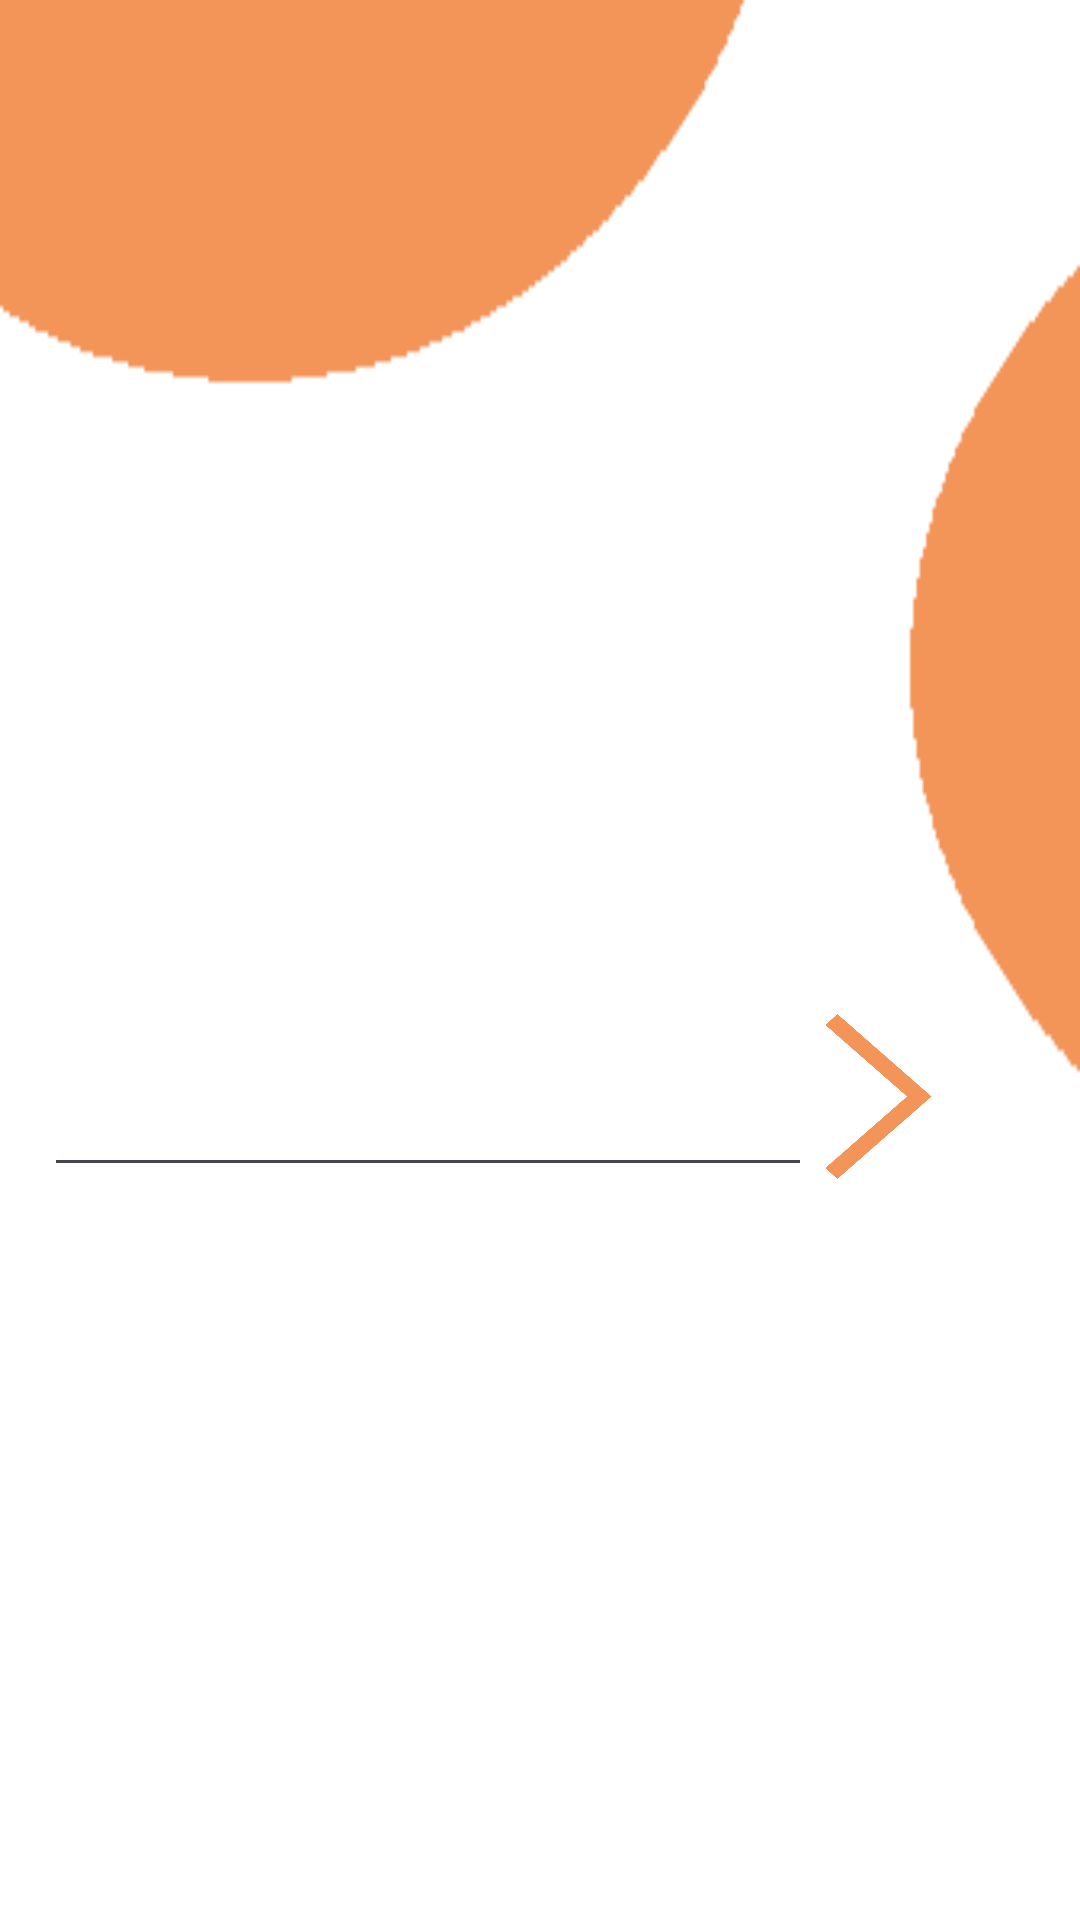

Screen size 1080*1920. Icon name, then its center in pixels as [x,y]:
next: [879,1096]
